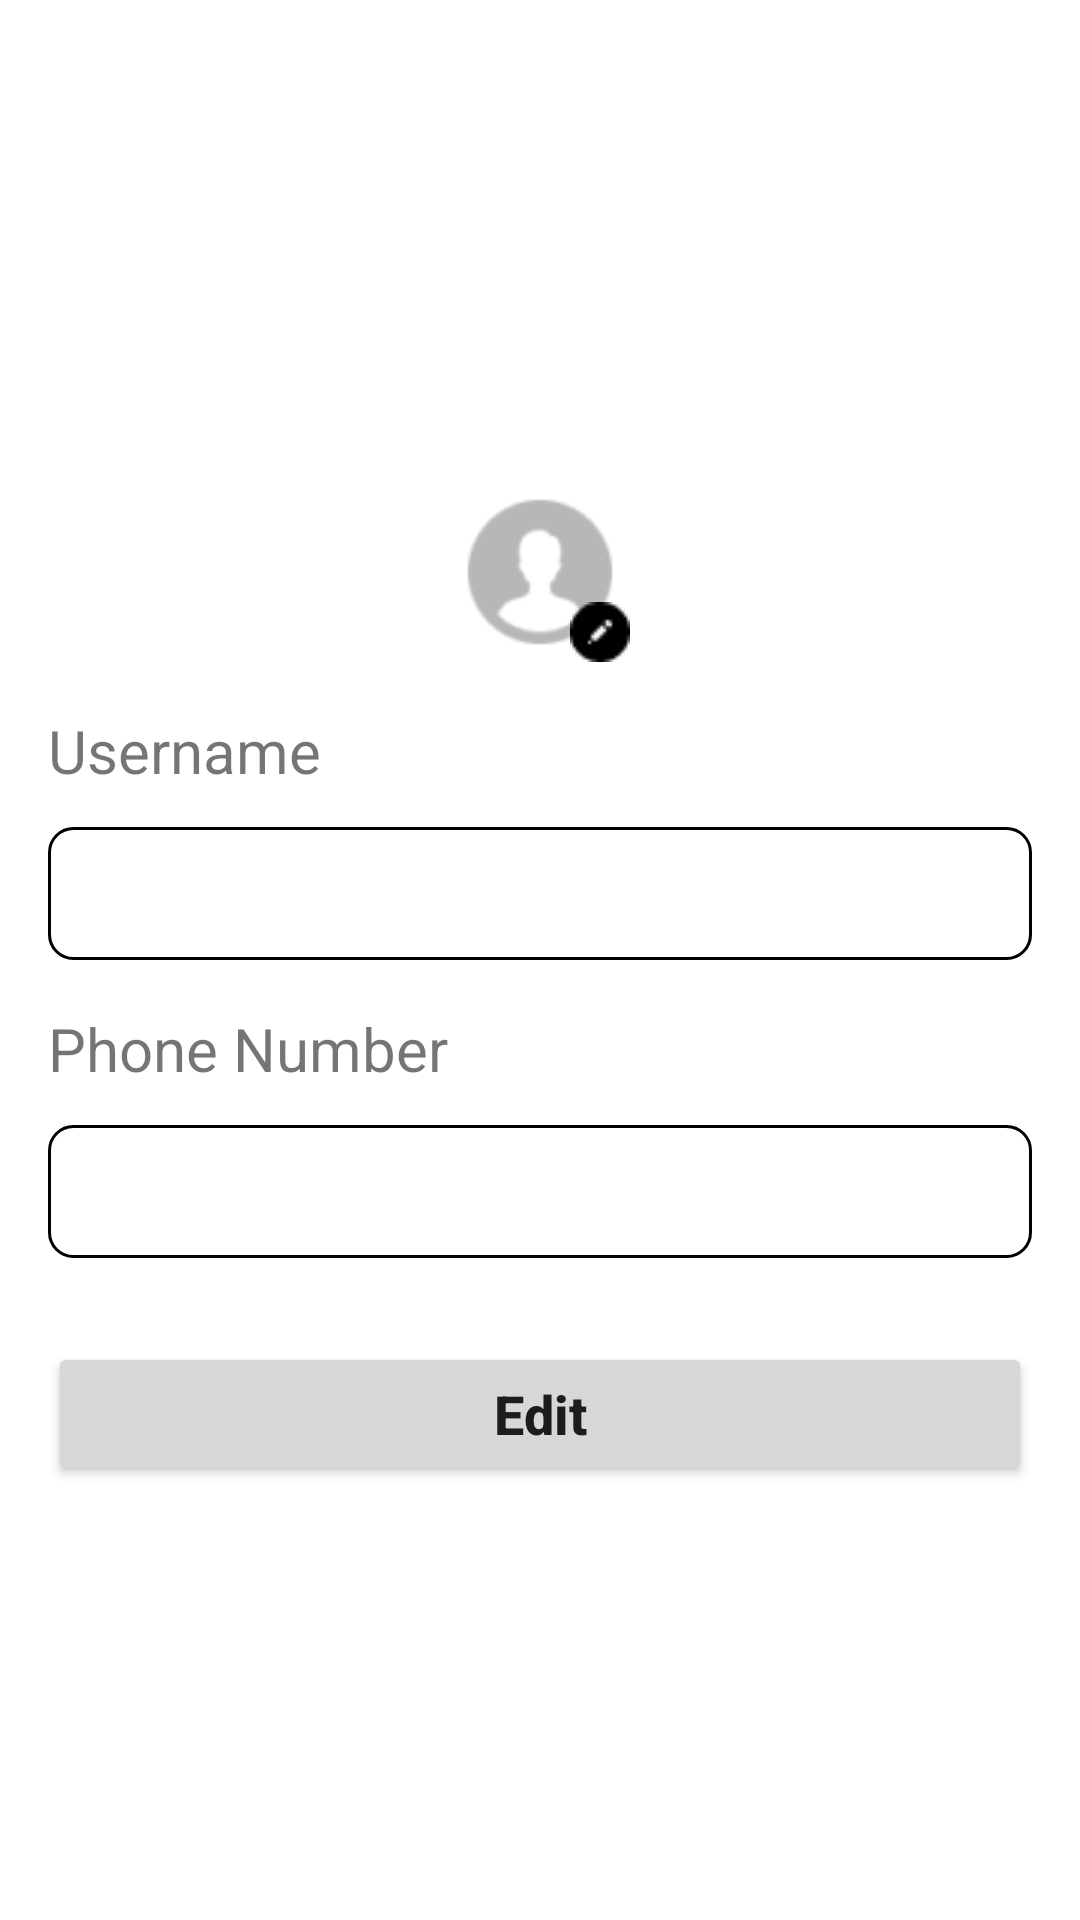

Point at icon controls on the screen. Image size 1080×1920, points as [x,y].
edit: [600,632]
